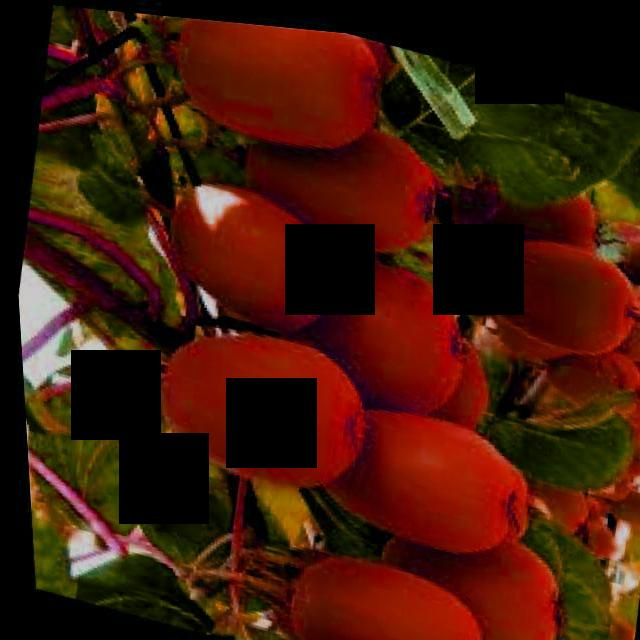kiwi: (137, 302, 375, 501), (304, 380, 531, 563), (261, 230, 476, 418), (225, 83, 441, 255), (160, 13, 388, 162), (149, 164, 341, 333), (354, 498, 567, 640), (463, 211, 640, 352), (268, 530, 481, 640), (323, 304, 492, 437), (434, 135, 601, 265), (529, 326, 620, 403), (292, 630, 473, 640)
